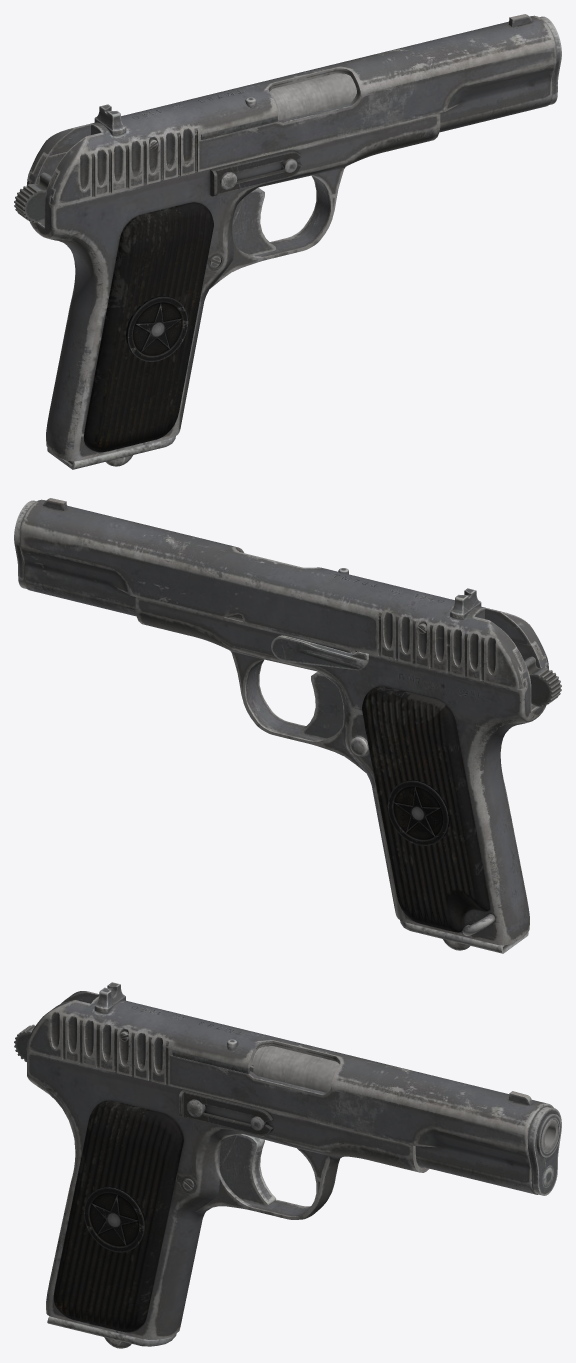
3 renders of one model, top to bottom at view 1: azimuth 30°, elevation 25°; view 2: azimuth 150°, elevation 25°; view 3: azimuth 330°, elevation 25°, orthographic.
Parts seen in each view (by area): view 1: tt33; view 2: tt33; view 3: tt33.
Boxes of the visible parts, x1,y1,x2,y2 form: tt33: (14,14,561,469); tt33: (14,498,561,953); tt33: (14,982,561,1348).
Size of the model in its own units: 0.2009 by 0.1292 by 0.0298.
1 material, 1 textured.
